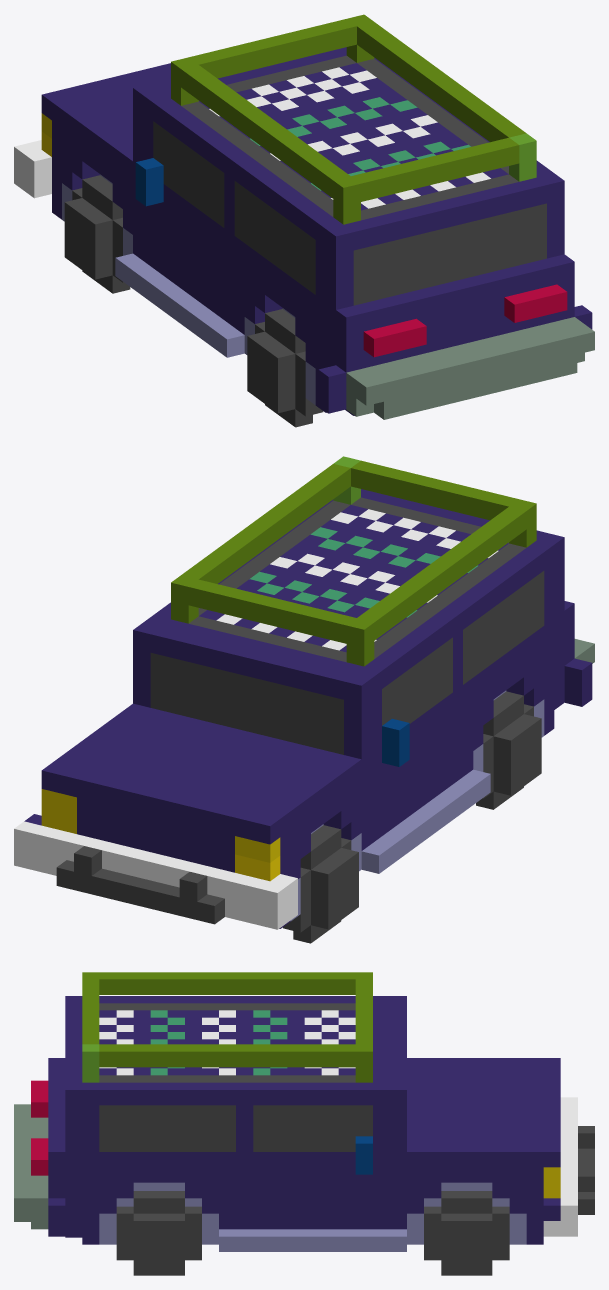
Rendered from car_05.glb.
3 views of the same model, one above another, from view 1: azimuth 30°, elevation 25°; view 2: azimuth 150°, elevation 25°; view 3: azimuth 270°, elevation 25° (orthographic). The views are drawn at different scales.
Parts seen in each view (by area): view 1: ObjObject; view 2: ObjObject; view 3: ObjObject.
Part boxes in pixels (x1,y1,x2,y2): ObjObject: [14, 14, 594, 427]; ObjObject: [14, 456, 594, 943]; ObjObject: [14, 972, 594, 1275].
Size of the model in its own units: 1.5 by 1.4 by 3.4.
1 material, 1 textured.
